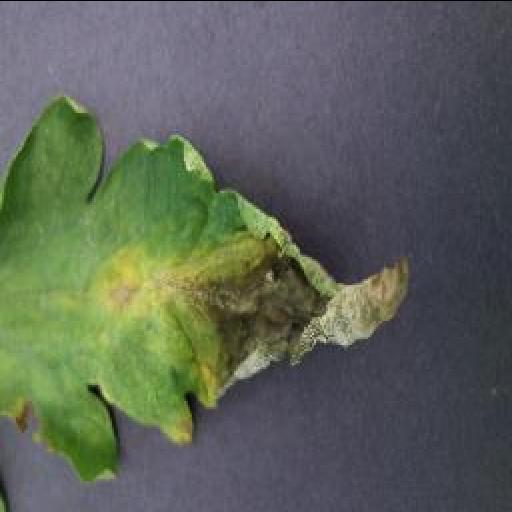disease_tomato: (0, 90, 408, 482)
